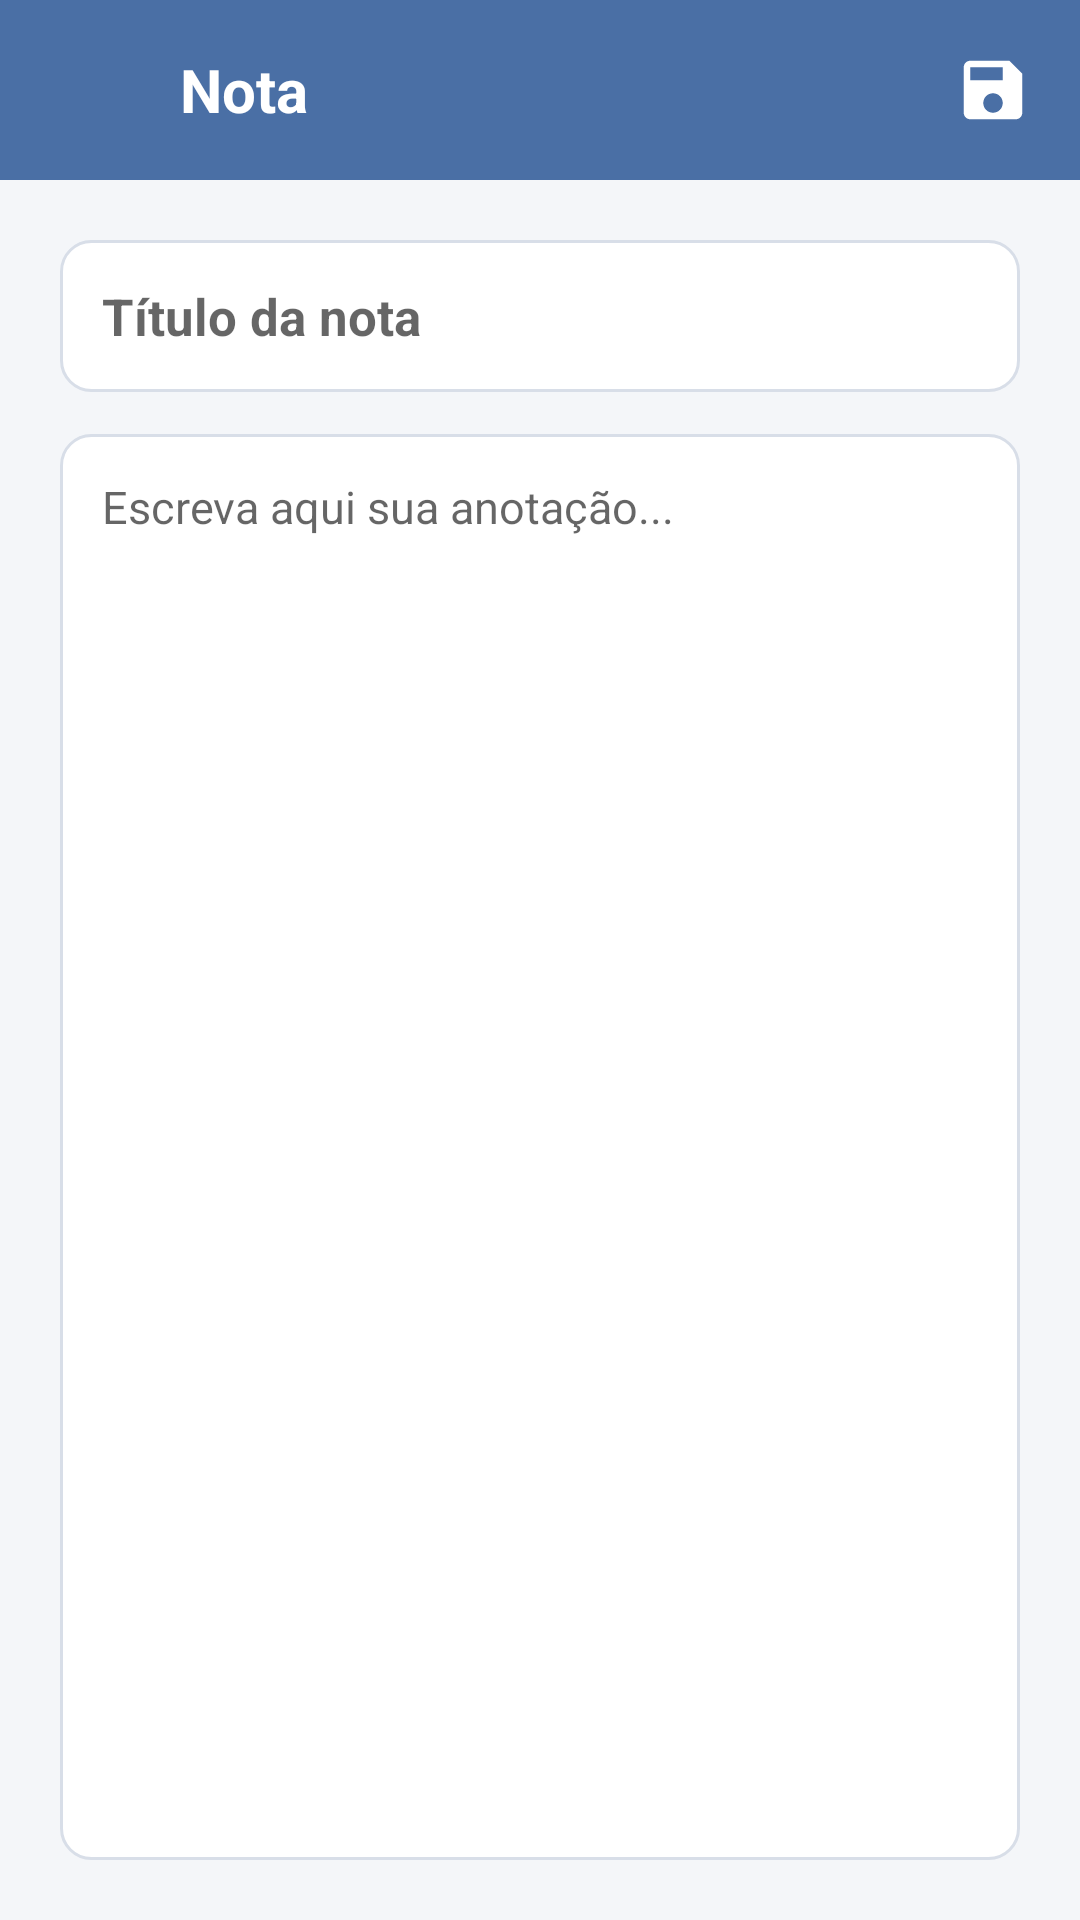

Icons on this 1080 x 1920 Android screen, each with its box as (x1, y1, x2, y2):
save: (963, 60, 1023, 120)
